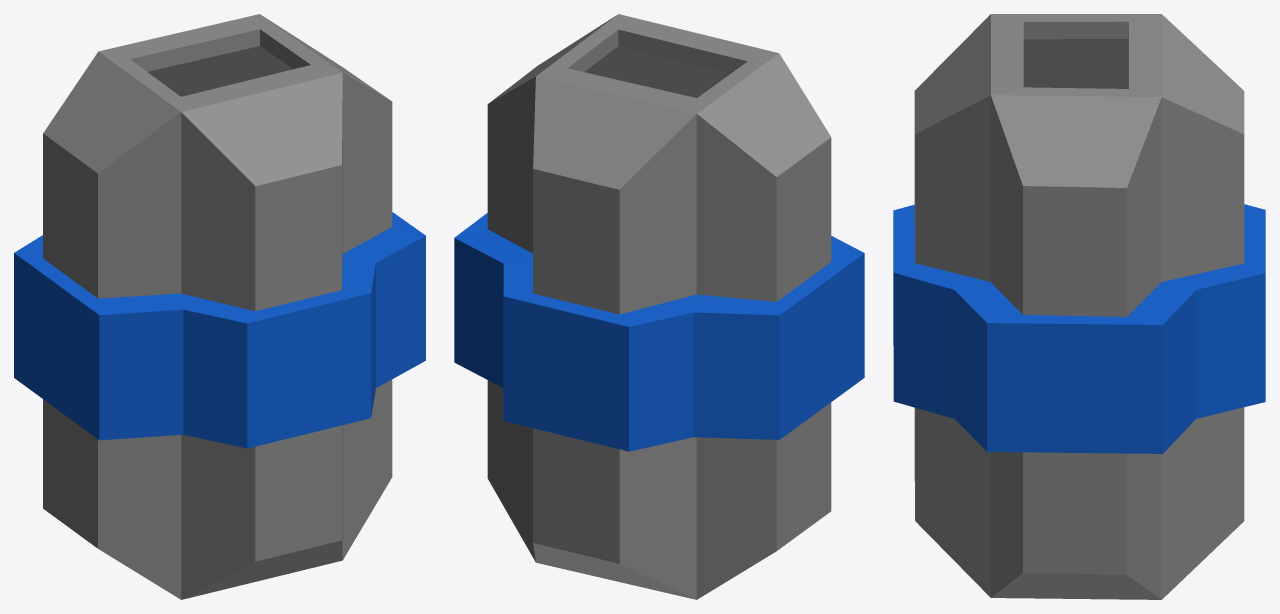
The model's file is Instrument_BombLauncher_Bomb.fbx.
3 renders of one model, left to right at view 1: azimuth 30°, elevation 25°; view 2: azimuth 150°, elevation 25°; view 3: azimuth 270°, elevation 25°, orthographic. The views are drawn at different scales.
Parts seen in each view (by area): view 1: Bomb; view 2: Bomb; view 3: Bomb.
Boxes of the visible parts, left/top/right/bottom form: Bomb: left=14, top=14, right=425, bottom=599; Bomb: left=454, top=14, right=864, bottom=599; Bomb: left=893, top=14, right=1265, bottom=599.
Bounding box in the file's own units: 0.1821 × 0.2611 × 0.1744.
